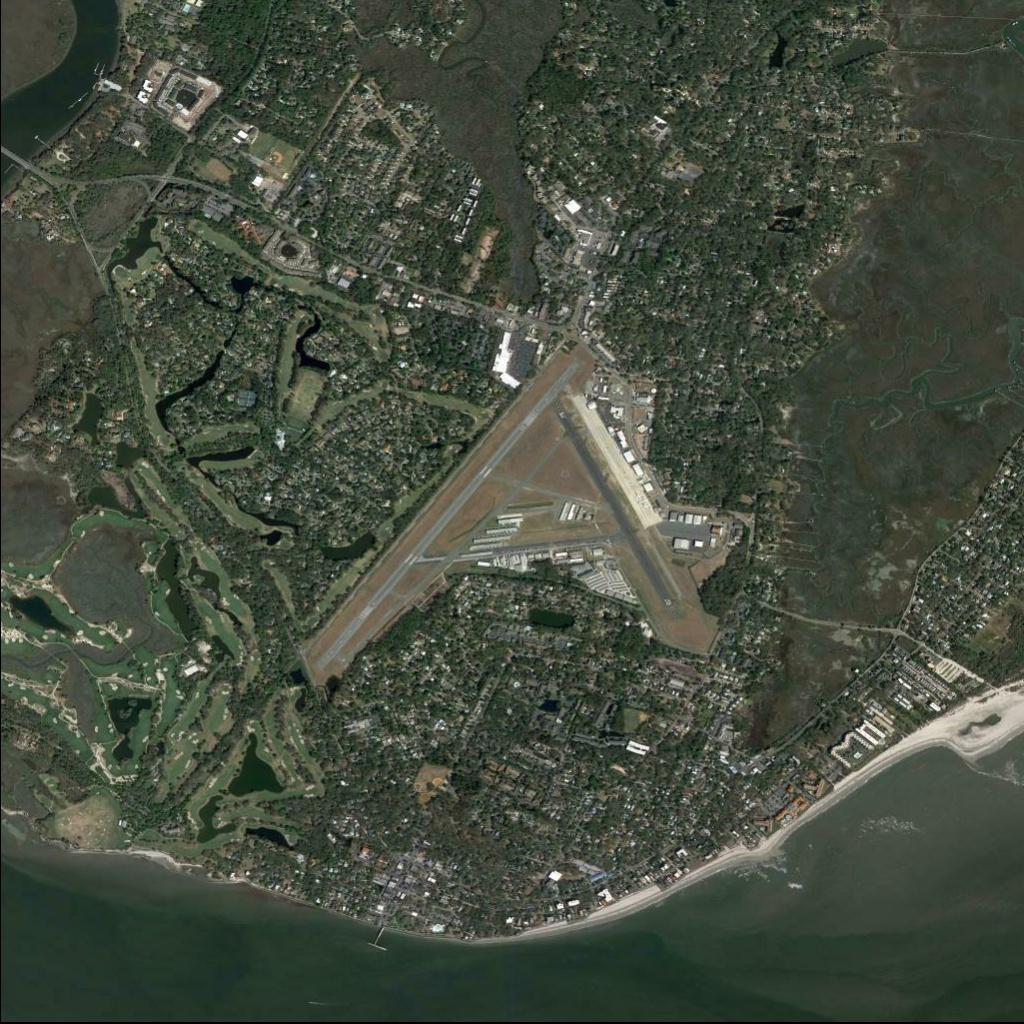harbor: (367, 927, 401, 955), (33, 133, 48, 145)
